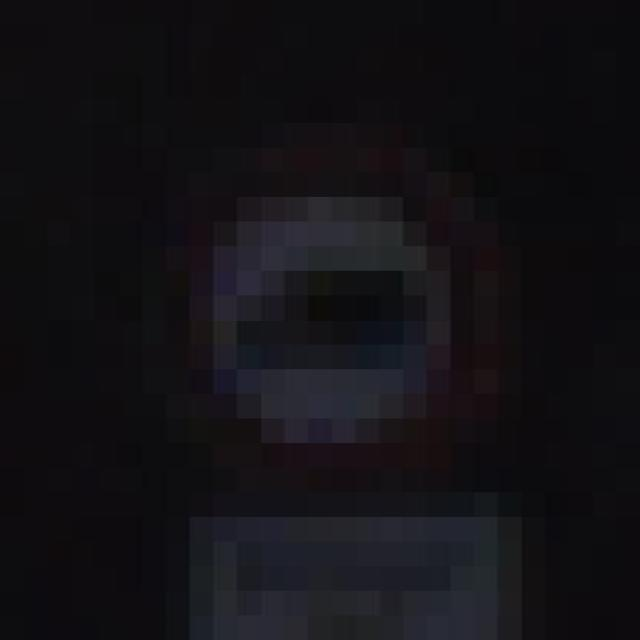Truck traffic is prohibited: (94, 98, 546, 517)
